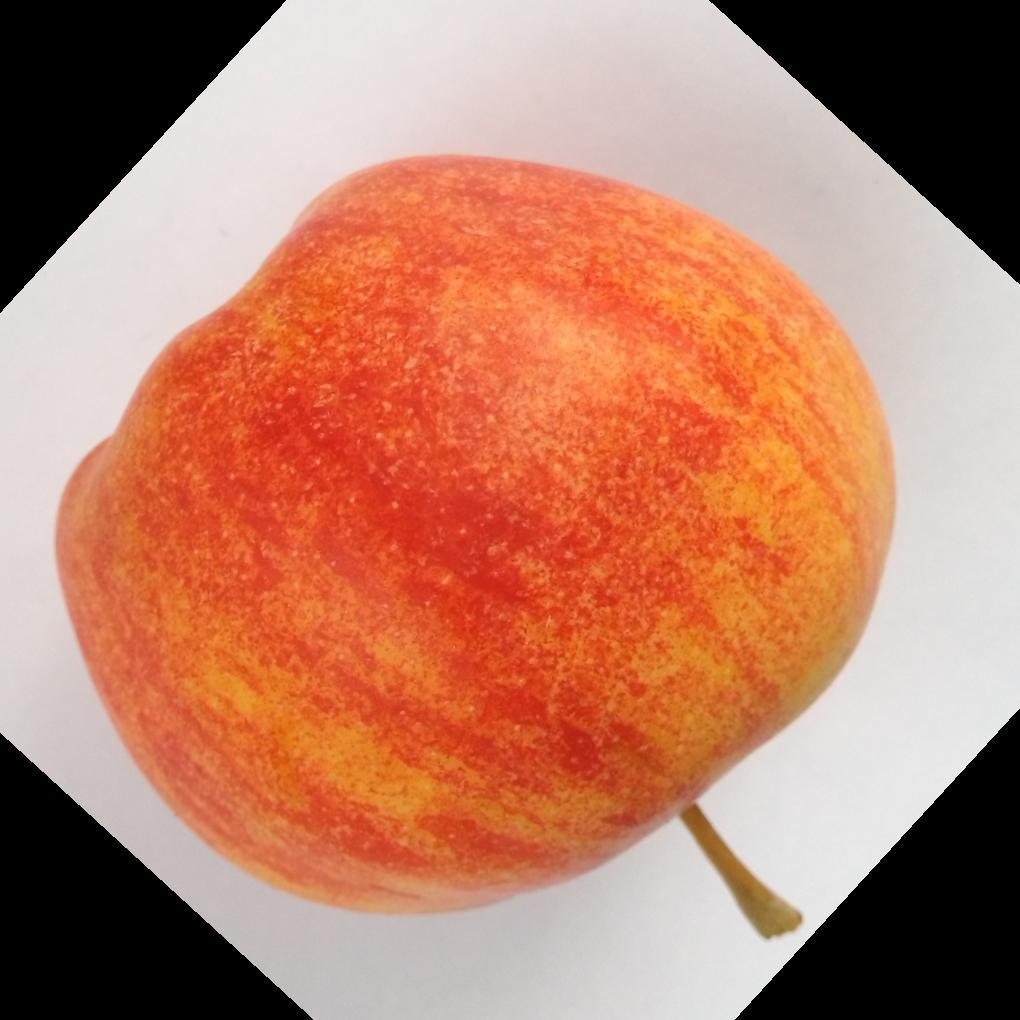FreshGuava: (49, 155, 898, 920)
